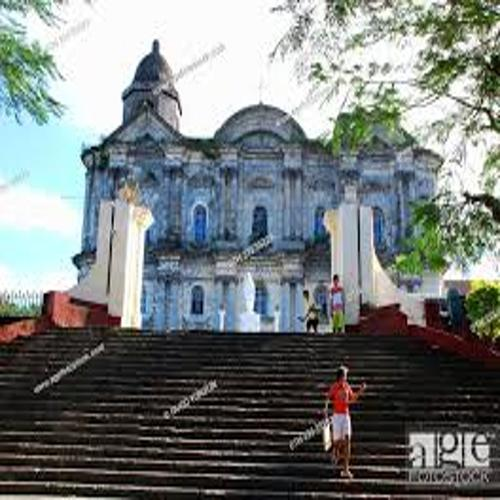Taal Basilica Church: (70, 34, 452, 334)
